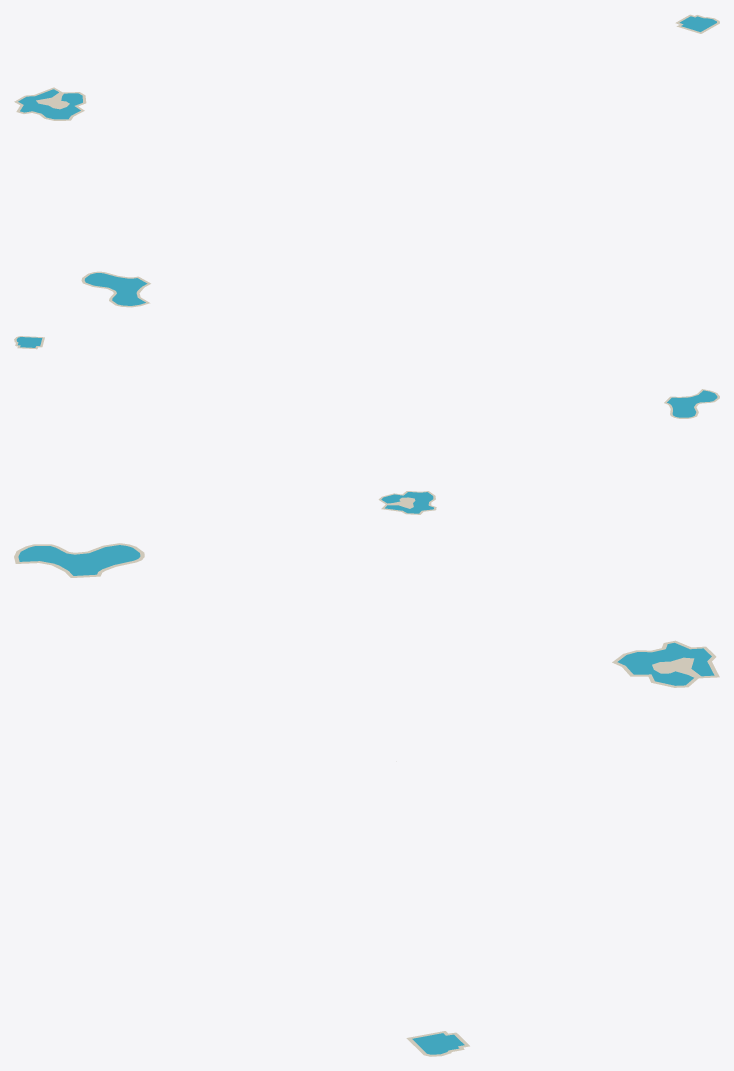
The model's file is pbpool_m21_m14.glb.
3 renders of one model, top to bottom at view 1: azimuth 30°, elevation 25°; view 2: azimuth 150°, elevation 25°; view 3: azimuth 270°, elevation 25°, orthographic. The views are drawn at different scales.
Parts seen in each view (by area): view 1: pbpool_m21_m14_lod0; view 2: pbpool_m21_m14_lod0; view 3: pbpool_m21_m14_lod0.
Part boxes in pixels (bbox=[...]): pbpool_m21_m14_lod0: bbox=[14, 14, 719, 307]; pbpool_m21_m14_lod0: bbox=[14, 336, 719, 514]; pbpool_m21_m14_lod0: bbox=[14, 543, 719, 1056].
Size of what is drawn, in the model's own units: 360 by 2.9 by 210.
